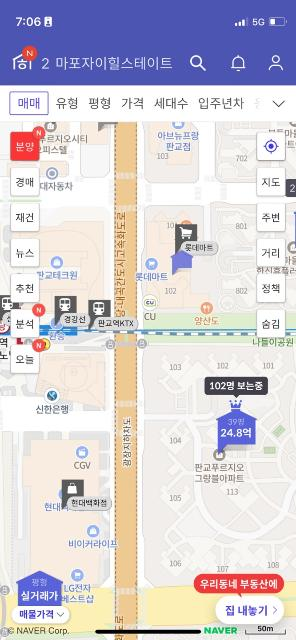BackgroundImage: (0, 120, 296, 640)
Icon: (12, 46, 38, 70), (230, 54, 246, 72), (190, 55, 207, 71), (270, 54, 282, 72), (93, 302, 105, 316), (180, 227, 192, 239), (60, 298, 70, 312), (273, 100, 285, 108), (273, 606, 277, 614), (58, 613, 64, 617)
ImageButton: (258, 132, 284, 160)
Multi_Tab: (0, 86, 296, 122)
Text: (42, 57, 172, 69), (201, 579, 277, 589), (198, 97, 244, 109), (210, 382, 262, 390), (225, 606, 266, 616), (155, 97, 187, 109), (22, 592, 58, 600), (20, 610, 54, 618), (18, 97, 40, 109), (121, 97, 143, 109), (98, 319, 134, 326), (71, 499, 106, 506), (90, 97, 110, 109), (221, 429, 251, 437), (186, 244, 214, 252), (57, 98, 77, 109), (16, 142, 34, 152), (16, 248, 34, 258), (16, 284, 34, 294), (16, 319, 34, 329), (16, 355, 34, 365), (262, 177, 280, 187), (262, 213, 280, 223), (262, 248, 280, 258), (262, 284, 280, 294), (64, 316, 86, 324), (16, 178, 34, 186), (16, 214, 34, 222), (262, 320, 280, 328), (32, 578, 48, 586), (228, 419, 244, 425), (37, 130, 41, 136), (37, 342, 41, 348), (36, 308, 41, 312)
TextButton: (11, 127, 46, 161), (11, 303, 45, 337), (12, 340, 44, 372), (11, 168, 39, 196), (11, 274, 39, 302), (257, 168, 285, 196), (257, 273, 285, 301), (258, 238, 284, 268), (257, 309, 285, 336), (12, 203, 38, 231), (12, 238, 38, 266), (257, 204, 285, 230)
TextImageButton: (216, 596, 284, 624), (12, 606, 70, 624)
UpperTaskBar: (0, 43, 296, 85), (2, 1, 296, 42)
